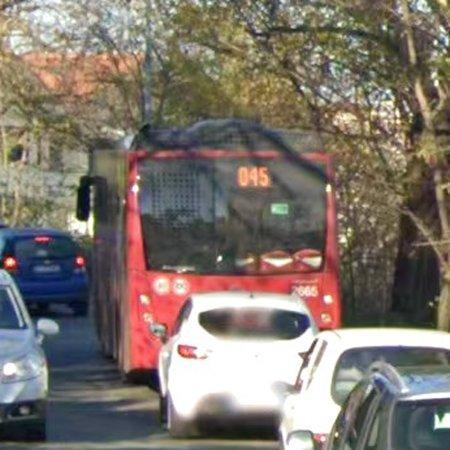buses: (76, 119, 342, 374)
